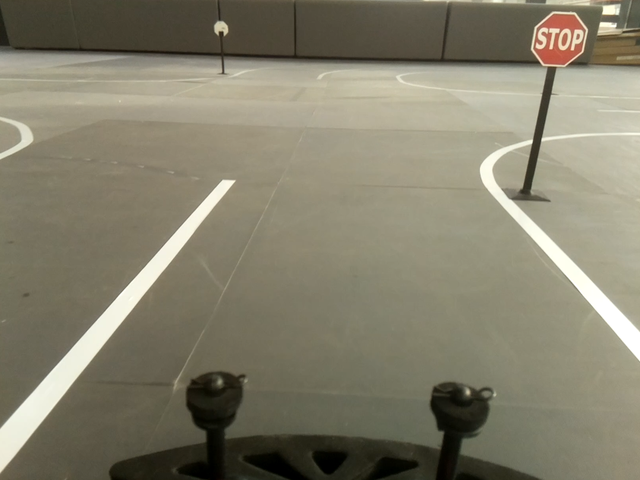stop: (530, 11, 588, 66)
